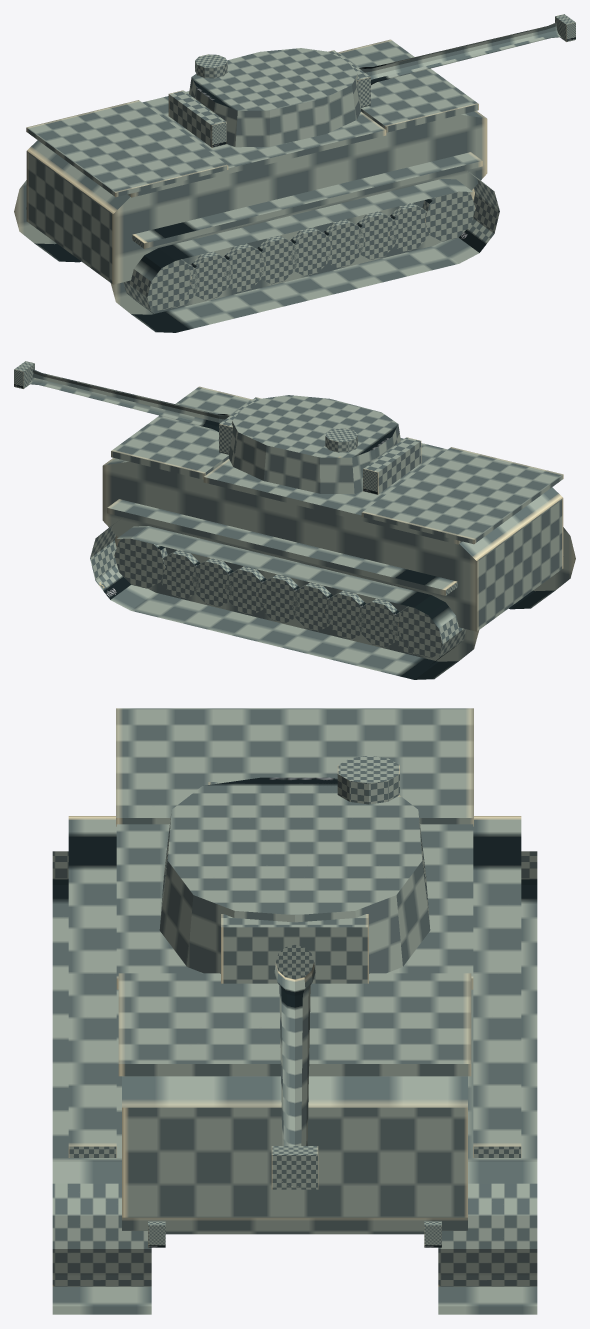
Rendered from tiger-i-uv.glb.
3 views of the same model, one above another, from view 1: azimuth 30°, elevation 25°; view 2: azimuth 150°, elevation 25°; view 3: azimuth 270°, elevation 25° (orthographic). The views are drawn at different scales.
Parts seen in each view (by area): view 1: HullArmour, Track_1, TurretShell, EngineDeck, SideSkirt_1, Foredeck, HullDeck, BarrelTube, Sprocket_1, TurretStowage, Idler_1, RoadWheel_1_2 (+10 smaller); view 2: HullArmour, Track_-1, TurretShell, EngineDeck, SideSkirt_-1, Foredeck, HullDeck, BarrelTube, Sprocket_-1, TurretStowage, Idler_-1, RoadWheel_-1_5 (+10 smaller); view 3: HullArmour, TurretShell, Foredeck, EngineDeck, Track_-1, Track_1, SideSkirt_-1, SideSkirt_1, HullDeck, Mantlet, BarrelTube, Cupola (+1 smaller).
Part boxes in pixels (bbox=[...]): HullArmour: bbox=[26, 111, 487, 284]; Track_1: bbox=[110, 170, 499, 332]; TurretShell: bbox=[189, 48, 361, 147]; EngineDeck: bbox=[26, 100, 228, 197]; SideSkirt_1: bbox=[132, 152, 482, 248]; Foredeck: bbox=[337, 39, 478, 132]; HullDeck: bbox=[127, 91, 386, 197]; BarrelTube: bbox=[359, 22, 561, 84]; Sprocket_1: bbox=[422, 191, 475, 241]; TurretStowage: bbox=[168, 90, 226, 147]; Idler_1: bbox=[147, 259, 191, 310]; RoadWheel_1_2: bbox=[190, 251, 232, 300]; HullArmour: bbox=[102, 458, 563, 631]; Track_-1: bbox=[90, 517, 479, 679]; TurretShell: bbox=[228, 395, 400, 494]; EngineDeck: bbox=[361, 447, 563, 544]; SideSkirt_-1: bbox=[107, 499, 457, 595]; Foredeck: bbox=[111, 386, 252, 479]; HullDeck: bbox=[203, 438, 462, 544]; BarrelTube: bbox=[28, 369, 230, 431]; Sprocket_-1: bbox=[114, 538, 167, 588]; TurretStowage: bbox=[363, 437, 421, 494]; Idler_-1: bbox=[398, 606, 442, 657]; RoadWheel_-1_5: bbox=[257, 574, 299, 623]; HullArmour: bbox=[122, 1076, 467, 1234]; TurretShell: bbox=[159, 777, 430, 973]; Foredeck: bbox=[118, 973, 471, 1076]; EngineDeck: bbox=[116, 708, 473, 826]; Track_-1: bbox=[438, 851, 537, 1314]; Track_1: bbox=[52, 851, 151, 1314]; SideSkirt_-1: bbox=[473, 816, 521, 1157]; SideSkirt_1: bbox=[68, 816, 116, 1157]; HullDeck: bbox=[116, 824, 473, 989]; Mantlet: bbox=[221, 914, 368, 983]; BarrelTube: bbox=[274, 945, 315, 1186]; Cupola: bbox=[337, 755, 399, 804].
Bounding box in the file's own units: 8.45 × 3 × 3.55.
1 material, 1 textured.
